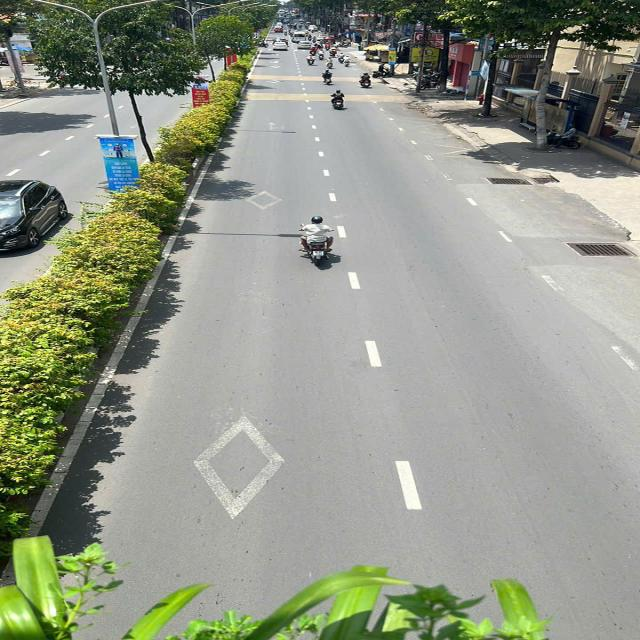car: (0, 176, 68, 254), (270, 37, 292, 52), (292, 30, 310, 44), (296, 38, 314, 51)
motobyte: (300, 214, 343, 270), (329, 87, 349, 110), (320, 64, 338, 88), (354, 69, 374, 90), (306, 50, 317, 66), (343, 52, 354, 68), (324, 55, 337, 68), (316, 48, 328, 62), (338, 50, 347, 65)
